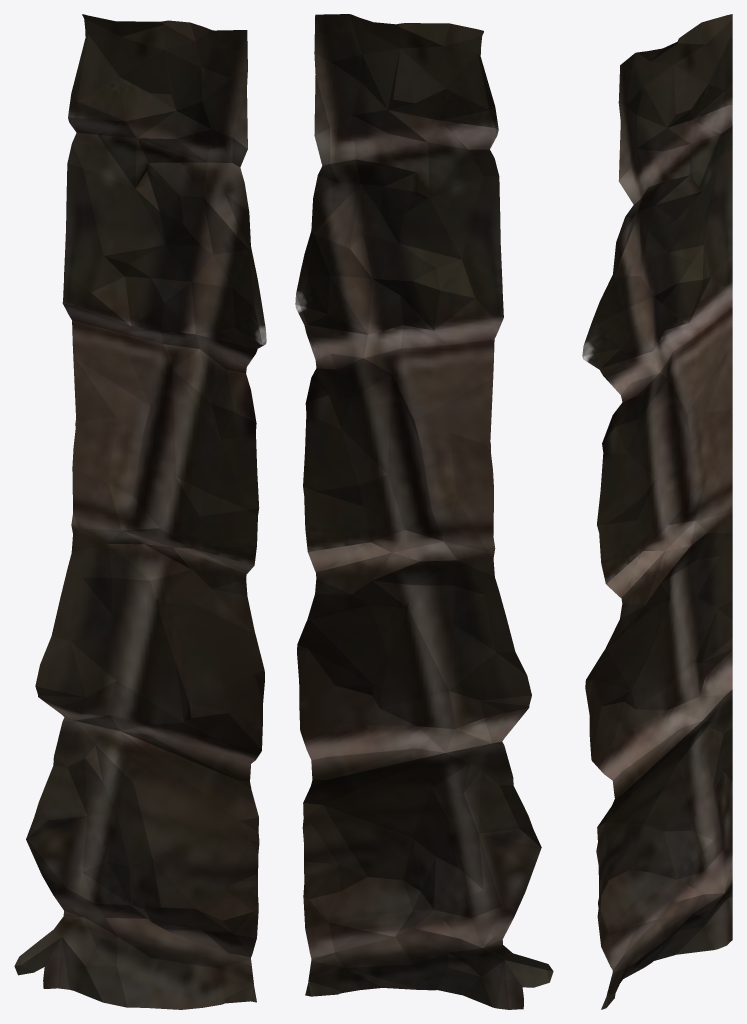
3 renders of one model, left to right at view 1: azimuth 30°, elevation 25°; view 2: azimuth 210°, elevation 25°; view 3: azimuth 270°, elevation 25°, orthographic. The views are drawn at different scales.
Size of the model in its own units: 0.1592 by 0.8374 by 0.1208.
Materials: 1 (1 with a texture image).
